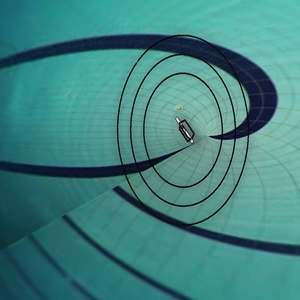circle: (108, 27, 262, 235)
submarine: (169, 112, 203, 152)
